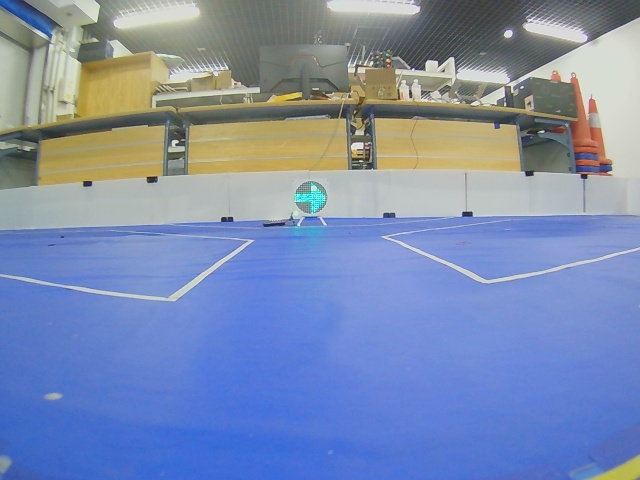right_green: (294, 181, 327, 214)
